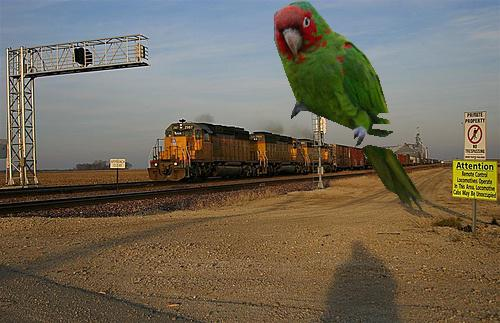tampered: (275, 1, 425, 214)
